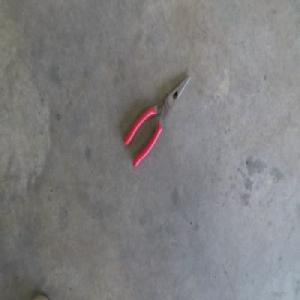Pliers: (122, 75, 191, 170)
